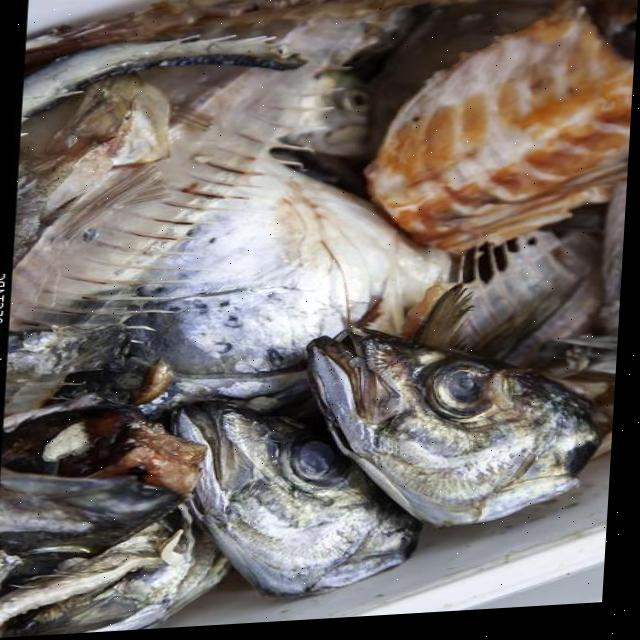Wet: (10, 18, 333, 412), (301, 327, 610, 543), (154, 394, 413, 598), (1, 457, 237, 637)
